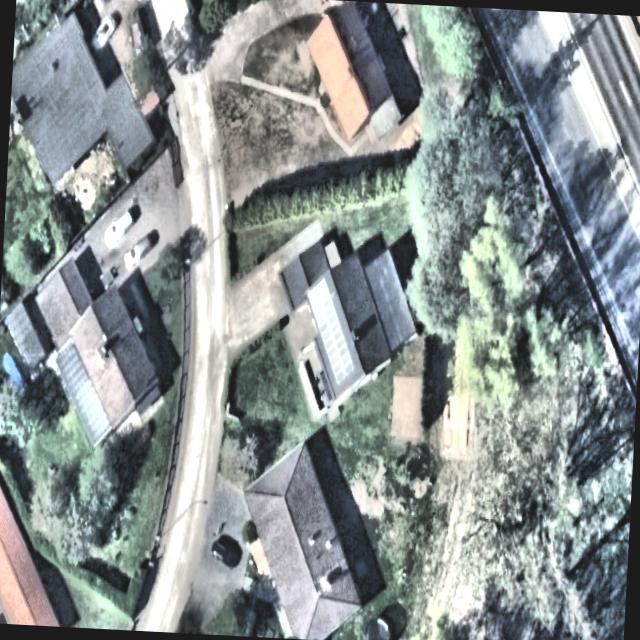roof_pv: (304, 272, 359, 392)
